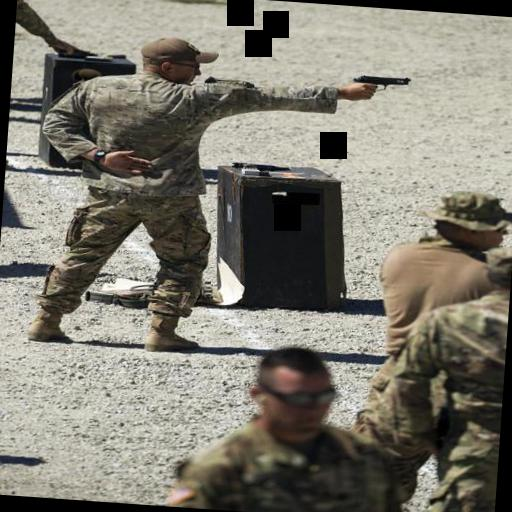Handgun: (348, 67, 416, 98)
